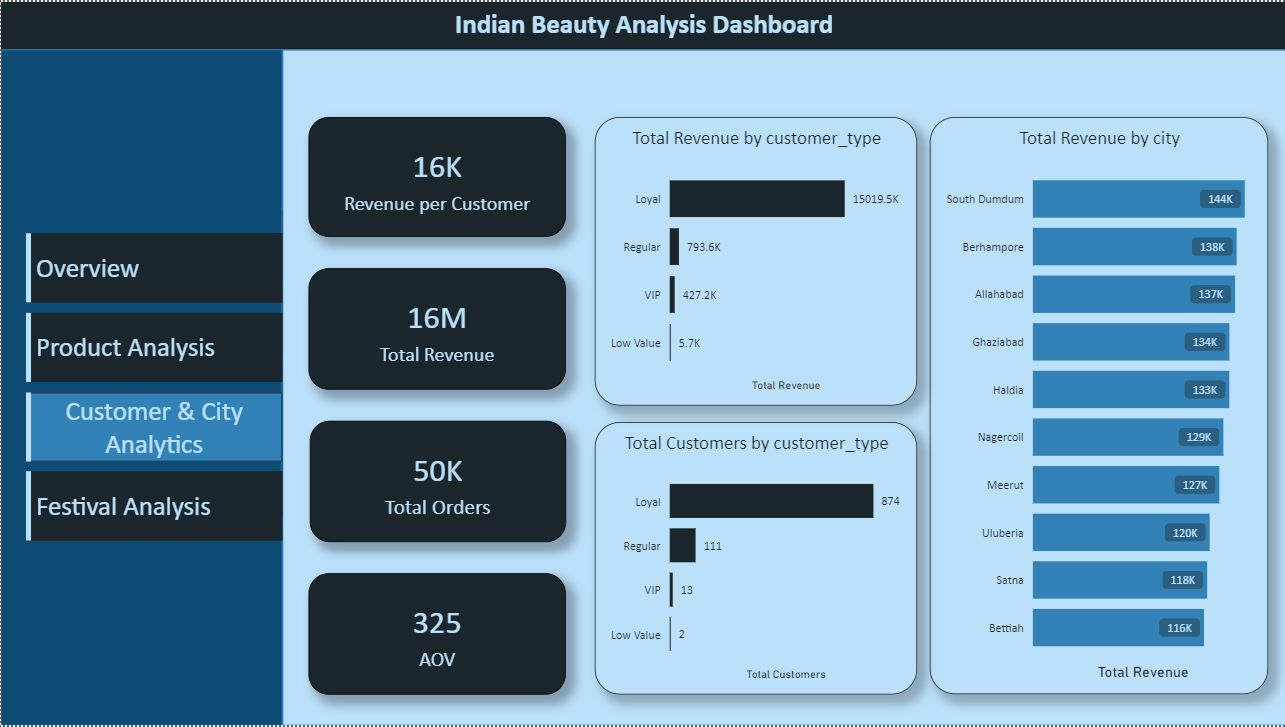

The page's visual inventory and layout, read from the dashboard file:
{"tool":"powerbi","page":{"name":"Customer & City Analytics","canvas":[1280,720],"ordinal":2},"visuals":[{"type":"shape","box":[279.9,47,1000.1,673],"z":0},{"type":"card","fields":{"Values":["KPI & Measures.Total Revenue"]},"box":[306.3,265,256.3,120.7],"z":1000},{"type":"card","fields":{"Values":["KPI & Measures.AOV"]},"box":[306.3,568.5,256.3,120.7],"z":2000},{"type":"card","fields":{"Values":["KPI & Measures.Revenue per Customer"]},"box":[306.3,114.4,256.3,119.4],"z":3000},{"type":"barChart","fields":{"Category":["sales_encriched.customer_type"],"Y":["KPI & Measures.Total Customers"]},"box":[590.9,418,320.9,271.2],"z":4000},{"type":"barChart","fields":{"Category":["sales_encriched.customer_type"],"Y":["KPI & Measures.Total Revenue"]},"box":[590.9,114.4,320.9,287.4],"z":5000},{"type":"barChart","fields":{"Category":["sales_encriched.city"],"Y":["KPI & Measures.Total Revenue"]},"box":[923.8,114.1,336.7,574.6],"z":6000},{"type":"textbox","box":[0,0,1280,47.3],"z":7000},{"type":"pageNavigator","box":[24.9,206.5,255,306],"z":8000},{"type":"shape","box":[0,47,279.9,673],"z":9000},{"type":"pageNavigator","box":[24.9,230.1,255,306],"z":10000},{"type":"card","fields":{"Values":["KPI & Measures.Total Orders"]},"box":[306.9,416.7,255,120.7],"z":11000}]}

Visuals, with their boxes in screenshot pixels (x1, y1, x2, y2), scaled from the page's 1280x720 canvas onto the 1285x727 screenshot:
shape: region(281, 47, 1284, 726)
card - KPI & Measures.Total Revenue: region(307, 268, 565, 389)
card - KPI & Measures.AOV: region(307, 574, 565, 696)
card - KPI & Measures.Revenue per Customer: region(307, 116, 565, 236)
barChart - sales_encriched.customer_type x KPI & Measures.Total Customers: region(593, 422, 915, 696)
barChart - sales_encriched.customer_type x KPI & Measures.Total Revenue: region(593, 116, 915, 406)
barChart - sales_encriched.city x KPI & Measures.Total Revenue: region(927, 115, 1265, 695)
textbox: region(0, 0, 1284, 48)
pageNavigator: region(25, 209, 281, 517)
shape: region(0, 47, 281, 726)
pageNavigator: region(25, 232, 281, 541)
card - KPI & Measures.Total Orders: region(308, 421, 564, 543)
